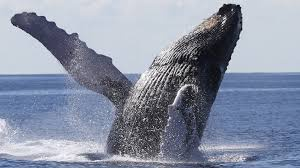humpback: (104, 3, 242, 156)
